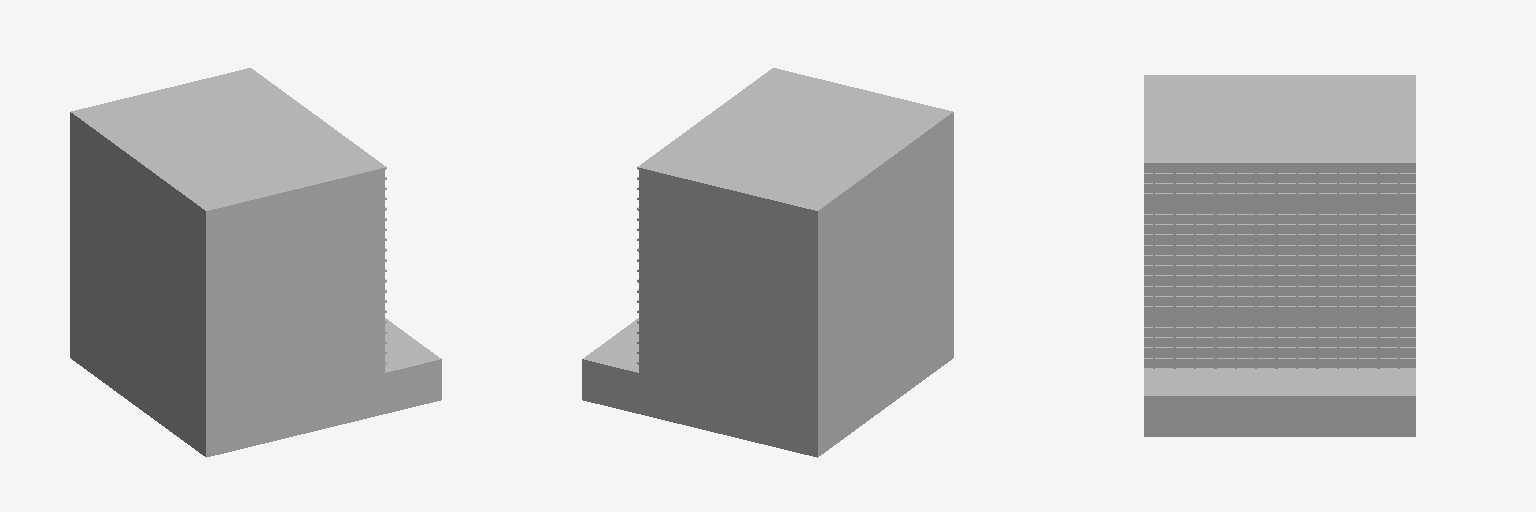
File: 3d fon 1.1-19.obj
3 views of the same model, side by side, from view 1: azimuth 30°, elevation 25°; view 2: azimuth 150°, elevation 25°; view 3: azimuth 270°, elevation 25° (orthographic).
Parts seen in each view (by area): view 1: object 1; view 2: object 1; view 3: object 1.
Part boxes in pixels (left/top/right/bottom): object 1: left=70, top=68, right=441, bottom=457; object 1: left=582, top=68, right=953, bottom=457; object 1: left=1144, top=75, right=1415, bottom=436.
Bounding box in the file's own units: 12 × 12 × 12.